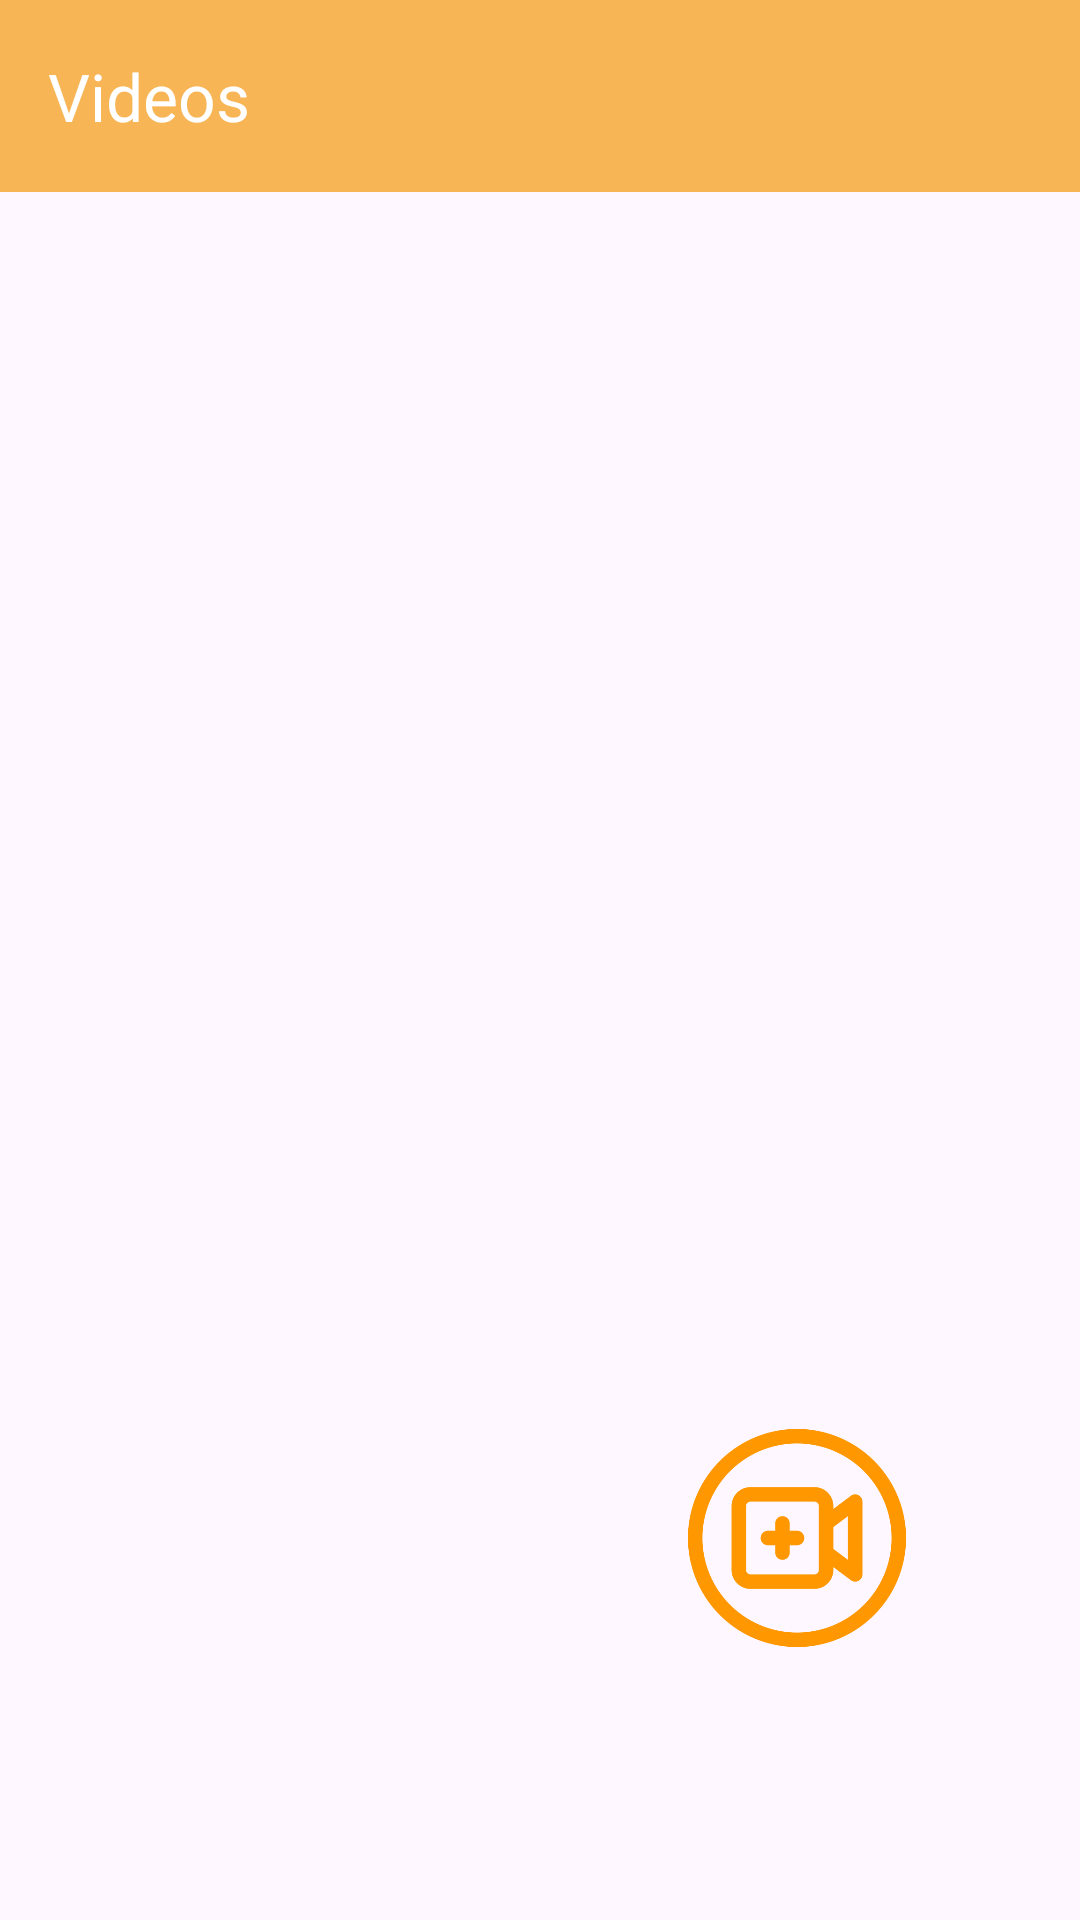

Named icons in this screenshot (1080 × 1920) and their bounding boxes, (x1=x1, y1=y1, x2=x2, y2=y2):
add video: (x1=688, y1=1429, x2=906, y2=1647)
